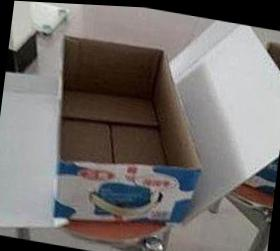cardboard: (24, 5, 215, 250), (168, 19, 279, 250), (166, 198, 270, 250)
